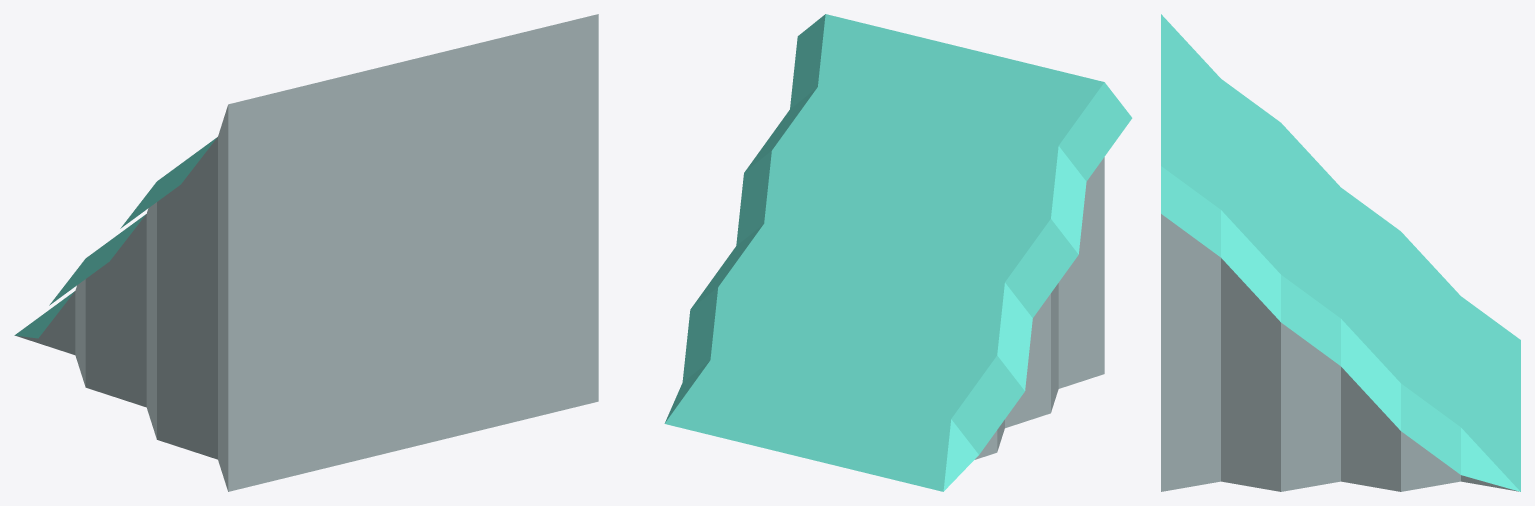
Rendered from kenney-nature-cliff_blockSlope_stone.glb.
3 renders of one model, left to right at view 1: azimuth 30°, elevation 25°; view 2: azimuth 150°, elevation 25°; view 3: azimuth 270°, elevation 25°, orthographic. The views are drawn at different scales.
Visible parts, largest first — view 1: cliff_blockSlope_stone; view 2: cliff_blockSlope_stone; view 3: cliff_blockSlope_stone.
Boxes of the visible parts, <box> form: cliff_blockSlope_stone: <box>14,14,598,491</box>; cliff_blockSlope_stone: <box>664,14,1132,491</box>; cliff_blockSlope_stone: <box>1161,14,1520,491</box>.
Bounding box in the file's own units: 1.2 × 1 × 1.
